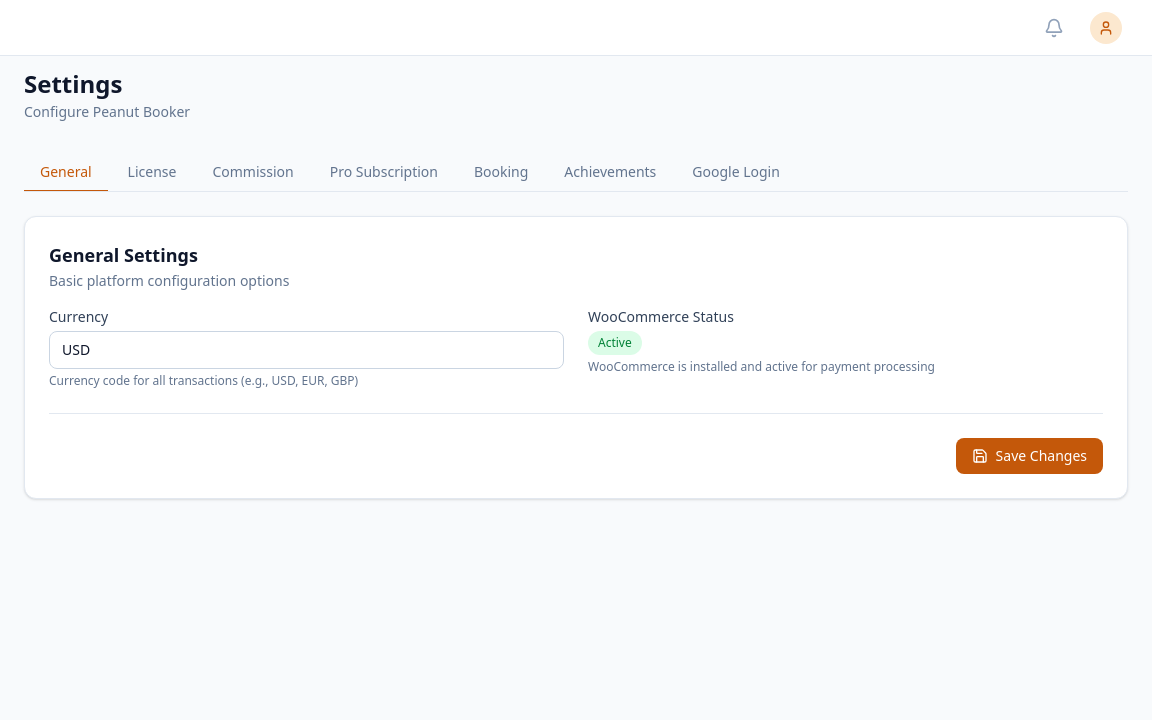
Test: Settings › tabs navigation › switches to Commission tab when clicked
Click the button "Commission" at x=253, y=173, box [196, 154, 310, 192]
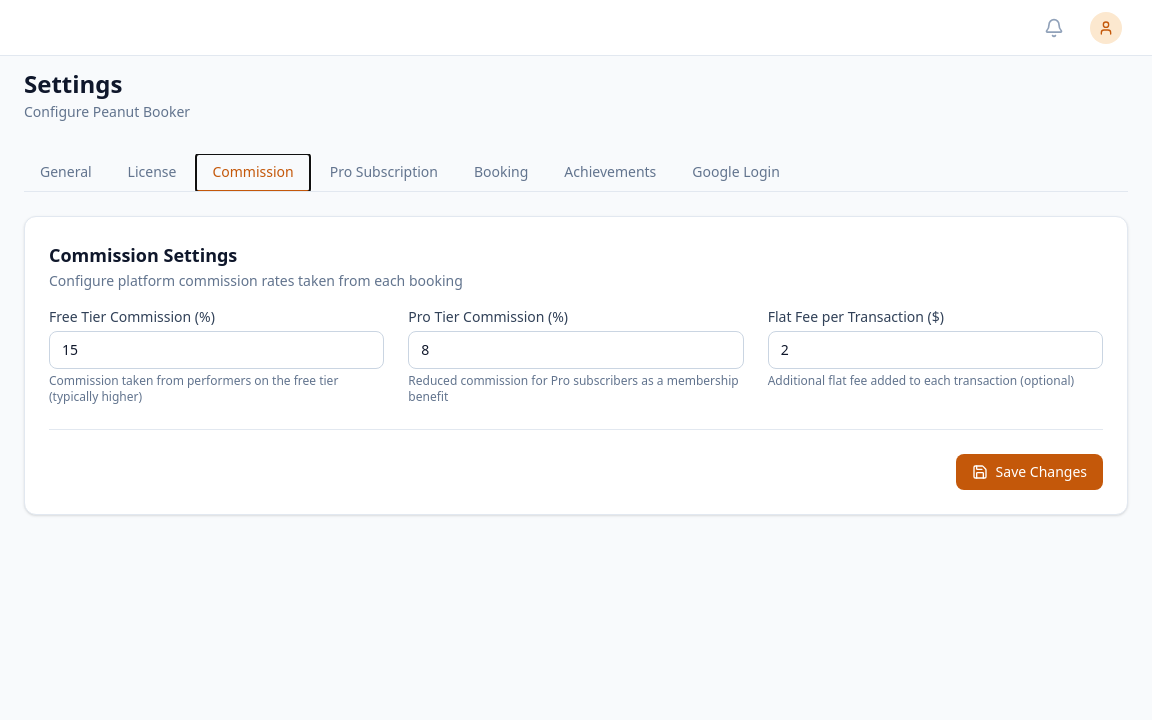
Expected: the heading "Commission Settings" is shown, [49, 243, 237, 267]
